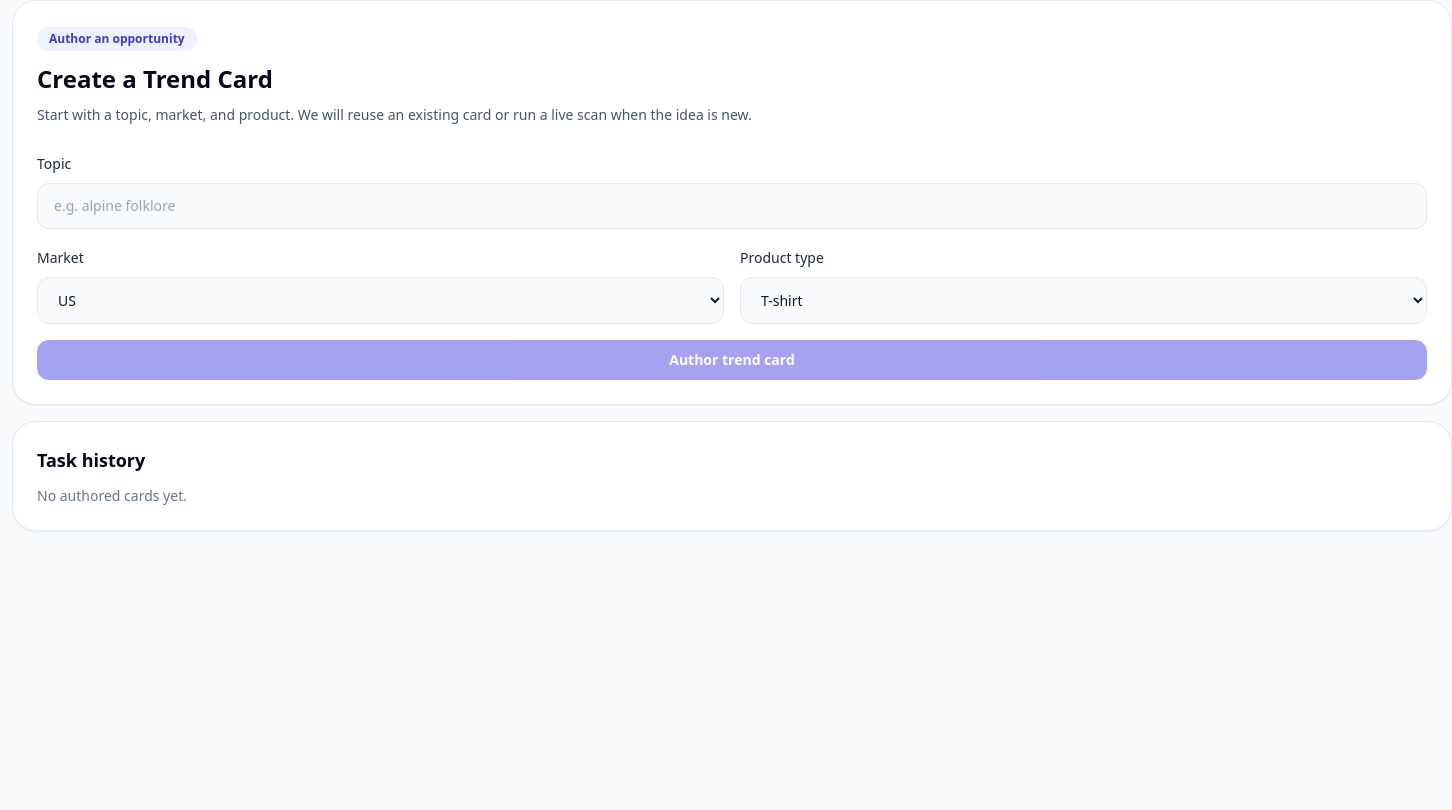
Scenario: SeedAuthoringPanel › advances the task label through synthesis, image generation, and finalization
In the field labelled "Topic": (732, 206) [37,183,1427,229], type "alpine folklore"
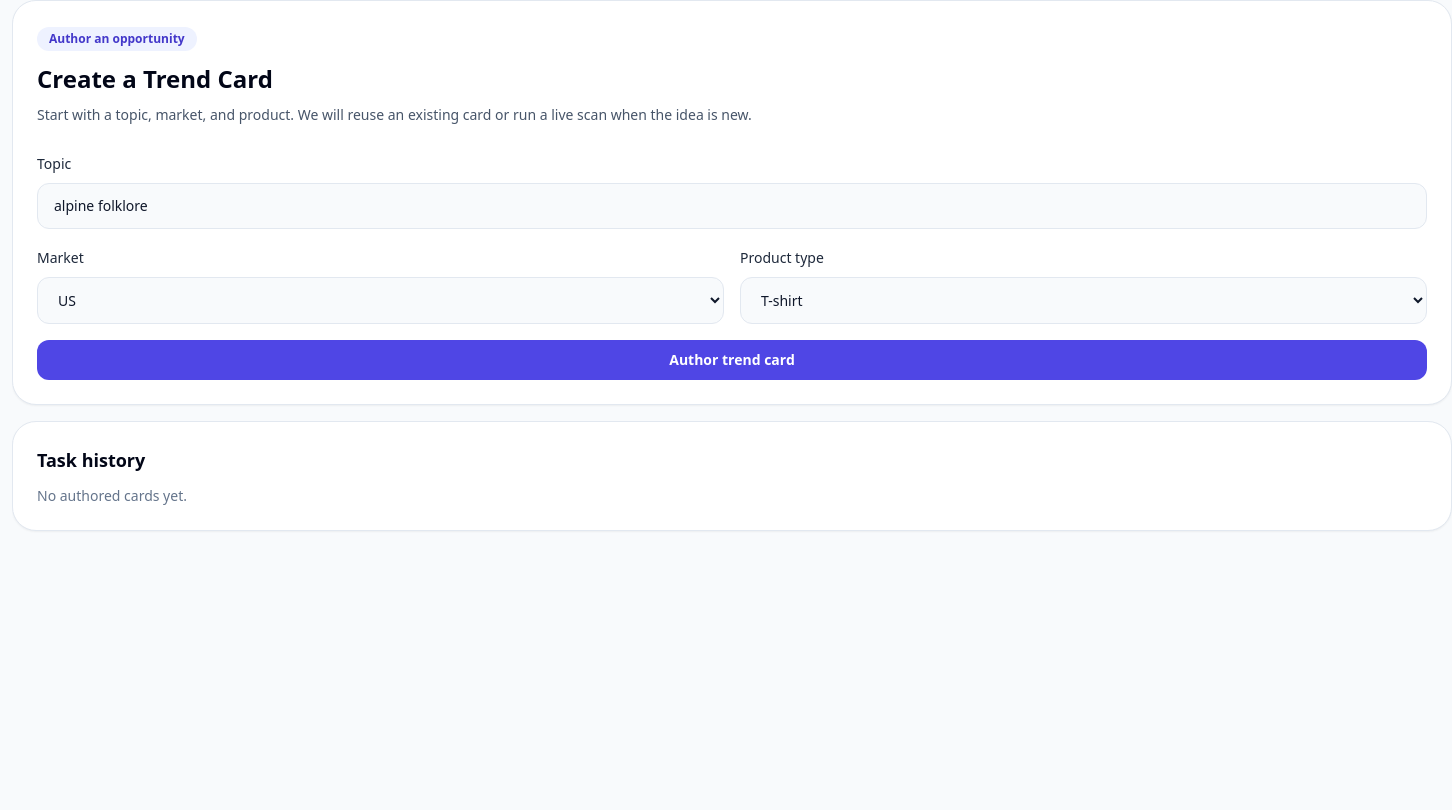
Click the button "Author trend card": (732, 360) [37,340,1427,380]
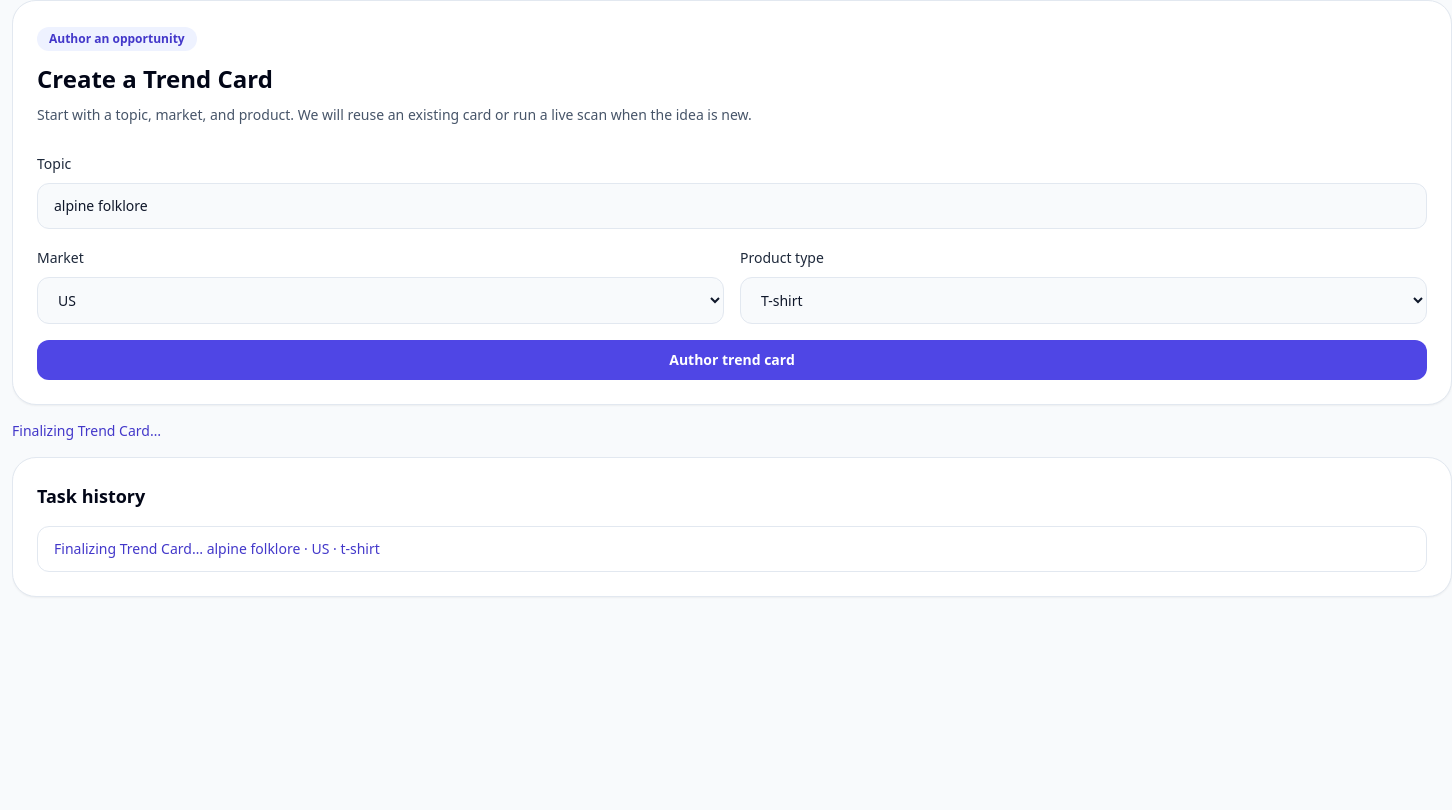
expect the text "Finalizing Trend Card…" is shown 2 times: met, box [12,421,161,440]; [54,539,380,558]
